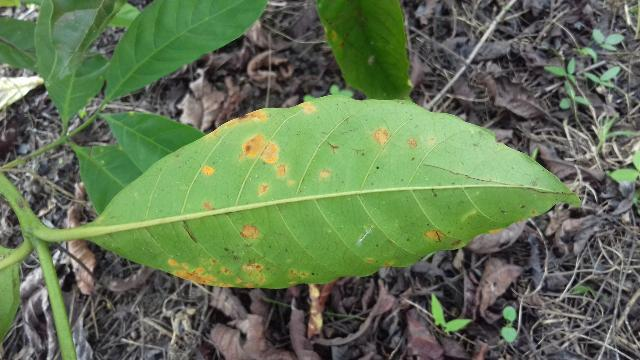rust_level_2: (41, 96, 582, 289)
